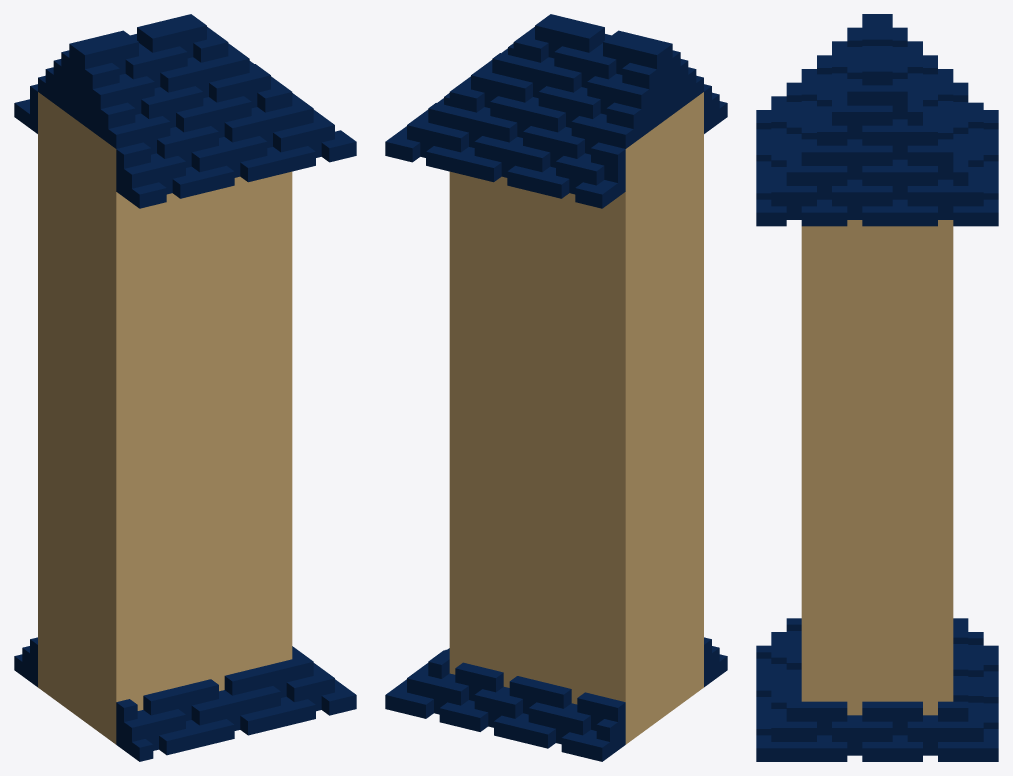
Rendered from OutsideWalls_TiledEnd.obj.
3 views of the same model, side by side, from view 1: azimuth 30°, elevation 25°; view 2: azimuth 150°, elevation 25°; view 3: azimuth 270°, elevation 25° (orthographic). The views are drawn at different scales.
Visible parts, largest first — view 1: OutsideWalls_TiledEnd; view 2: OutsideWalls_TiledEnd; view 3: OutsideWalls_TiledEnd.
Part boxes in pixels (box(x1,y1,x2,y2)): OutsideWalls_TiledEnd: box(14, 14, 356, 761); OutsideWalls_TiledEnd: box(385, 14, 727, 761); OutsideWalls_TiledEnd: box(756, 14, 998, 761).
Size of the model in its own units: 16 by 47 by 16.
1 material, 1 textured.
